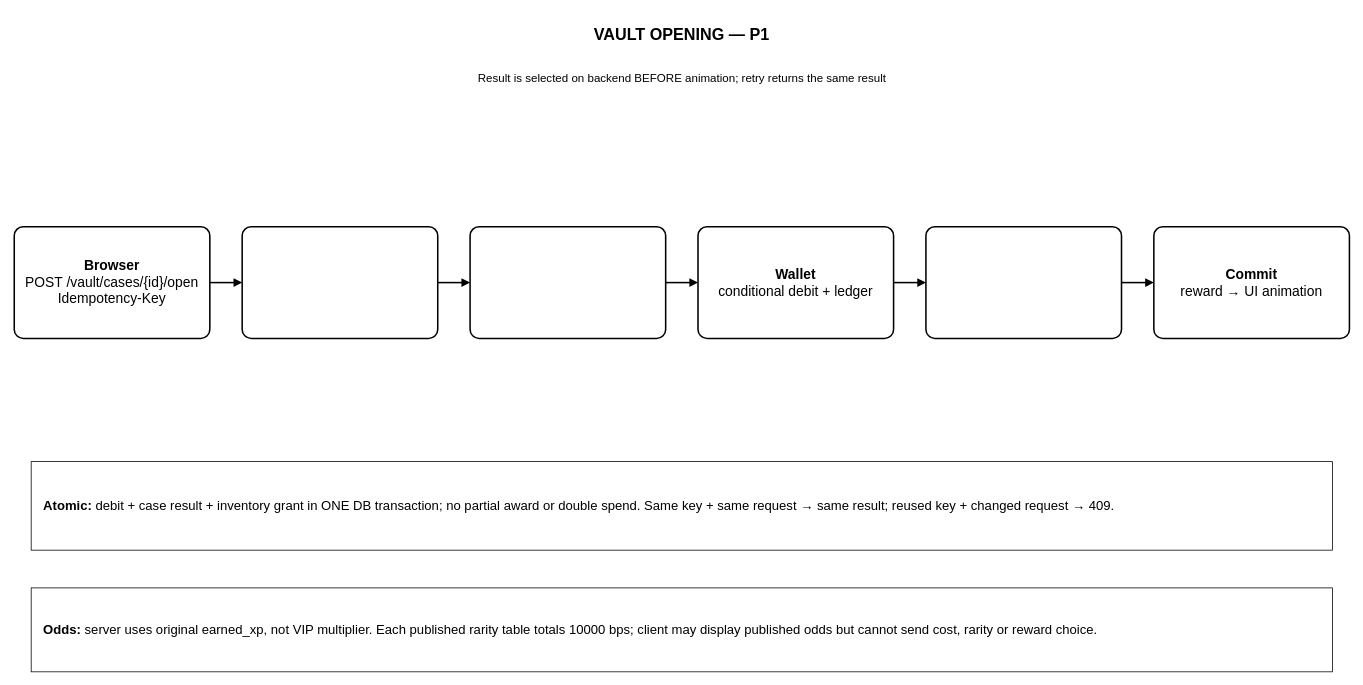
The diagram is 1363 pixels wide and 685 high, and some of its shapes have lost their labels. Each missing label, with the centre of its shape:
"Backend session, limits earned_xp only" goes at point (339, 282).
"PostgreSQL case_open + item grant" goes at point (1023, 282).
"Published pool version + band + CSPRNG" goes at point (567, 282).
